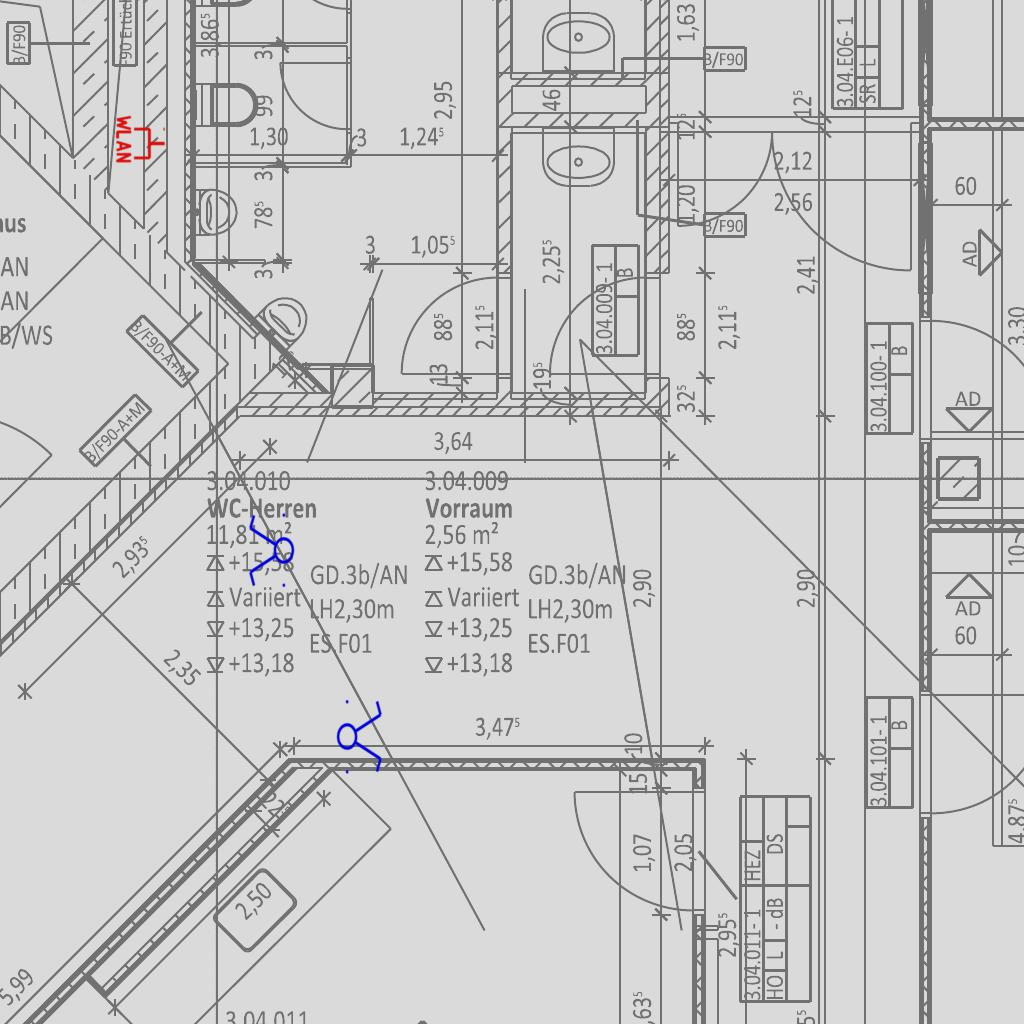Serienschalter: (247, 509, 295, 593), (336, 694, 384, 778)
WLAN: (115, 113, 167, 165)
